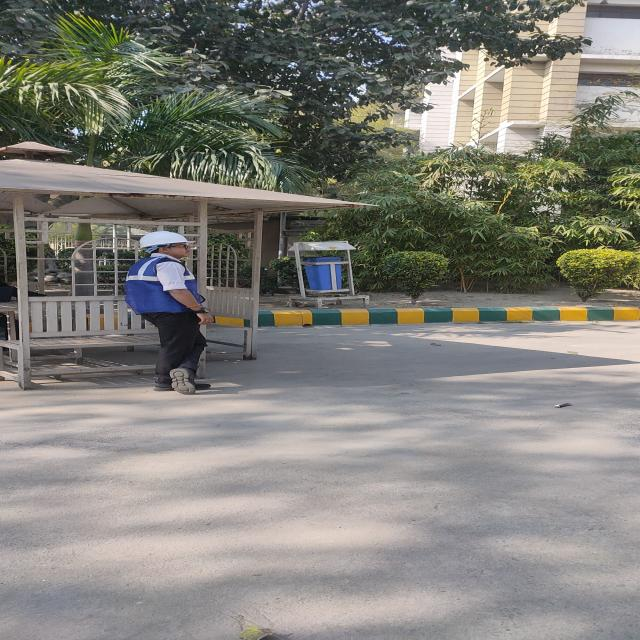safe: (128, 231, 211, 394)
